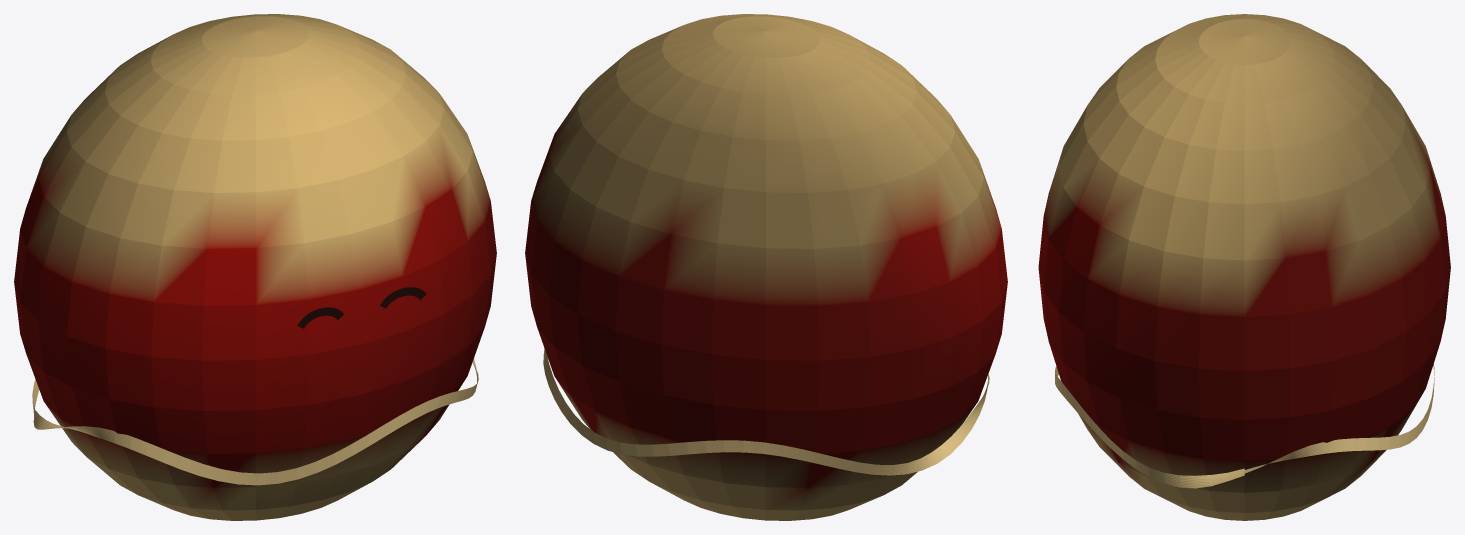
File: Klee_SmallBomb.fbx
The picture shows the model from 3 angles, left to right: view 1: azimuth 30°, elevation 25°; view 2: azimuth 150°, elevation 25°; view 3: azimuth 270°, elevation 25°; orthographic projection. The views are drawn at different scales.
Parts seen in each view (by area): view 1: Klee_SmallBomb; view 2: Klee_SmallBomb; view 3: Klee_SmallBomb.
Boxes of the visible parts, box(x1,y1,x2,y2) form: Klee_SmallBomb: box(14, 14, 496, 520); Klee_SmallBomb: box(525, 14, 1007, 520); Klee_SmallBomb: box(1038, 14, 1450, 520).
Size of the model in its own units: 60 by 62.4 by 50.7.
